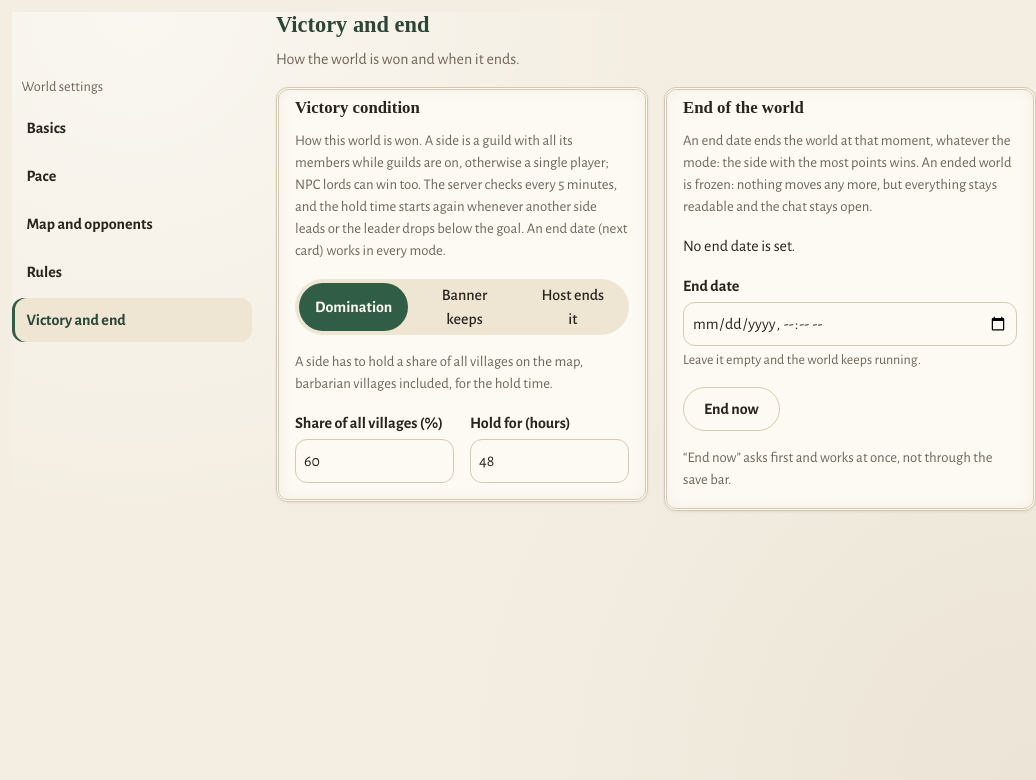
Scenario: WorldTab: one save bar for every section (1.6) › keeps what failed in the bar and says the rest is saved
Type "2026-11-07T18:00" into the field labelled "End date" at (850, 324), box [683, 302, 1017, 346]
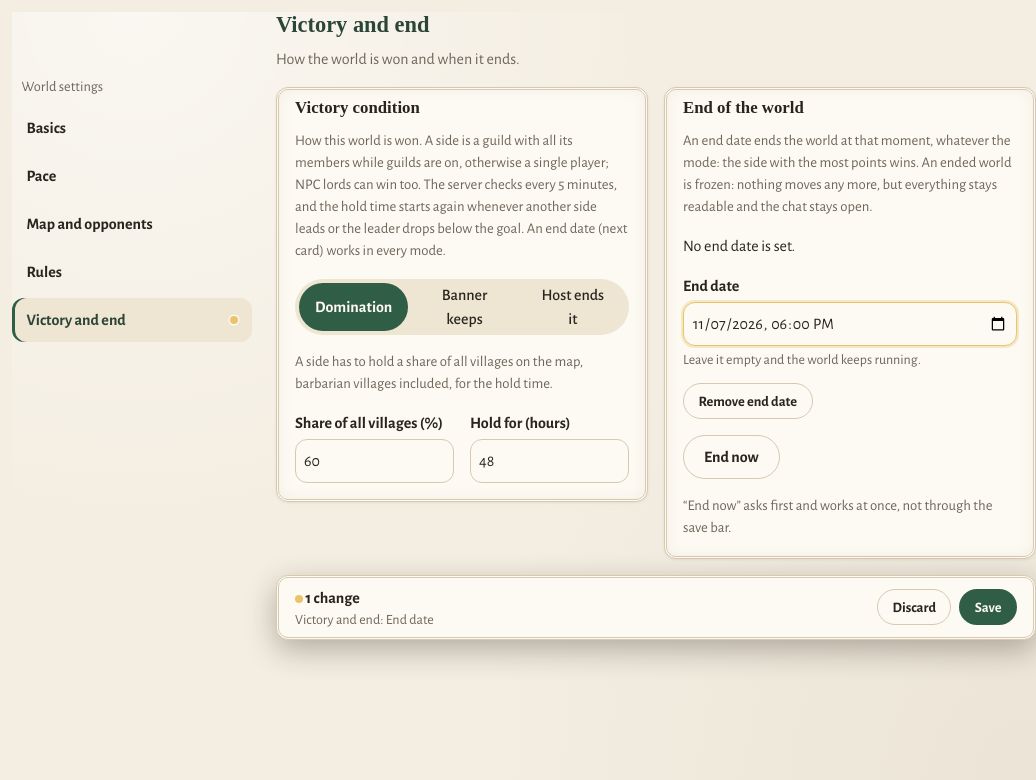
Click the button "Host ends it" at (573, 306), box [521, 282, 625, 330]
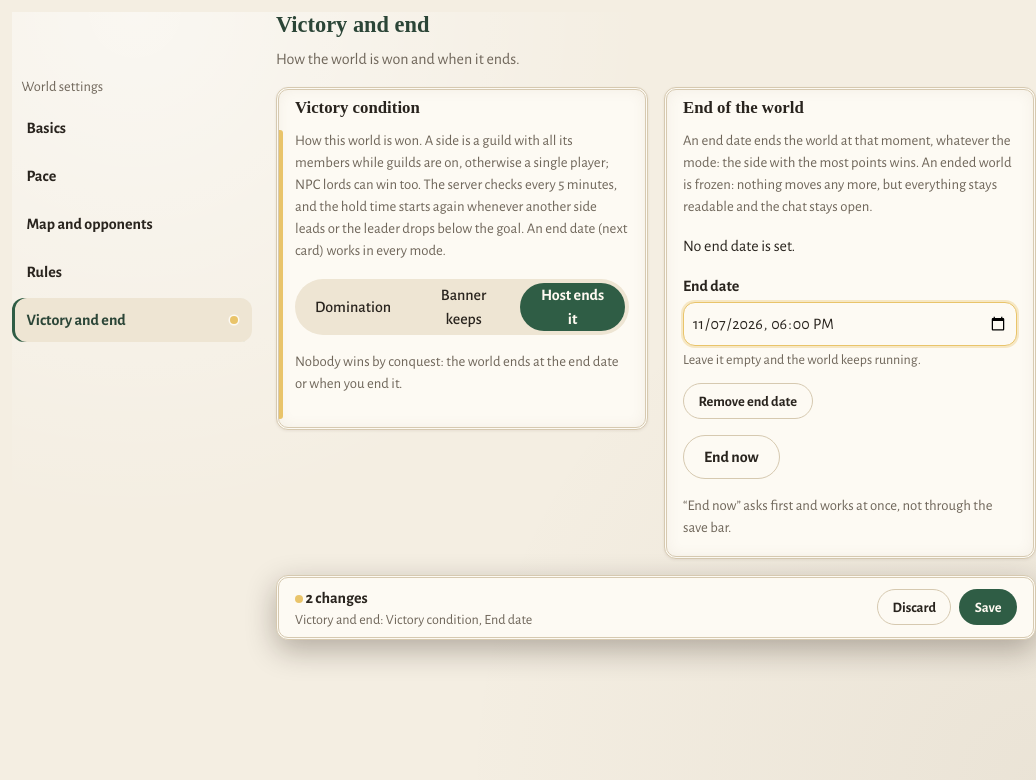
Click the button "Save" at (988, 607), box [959, 589, 1017, 625]
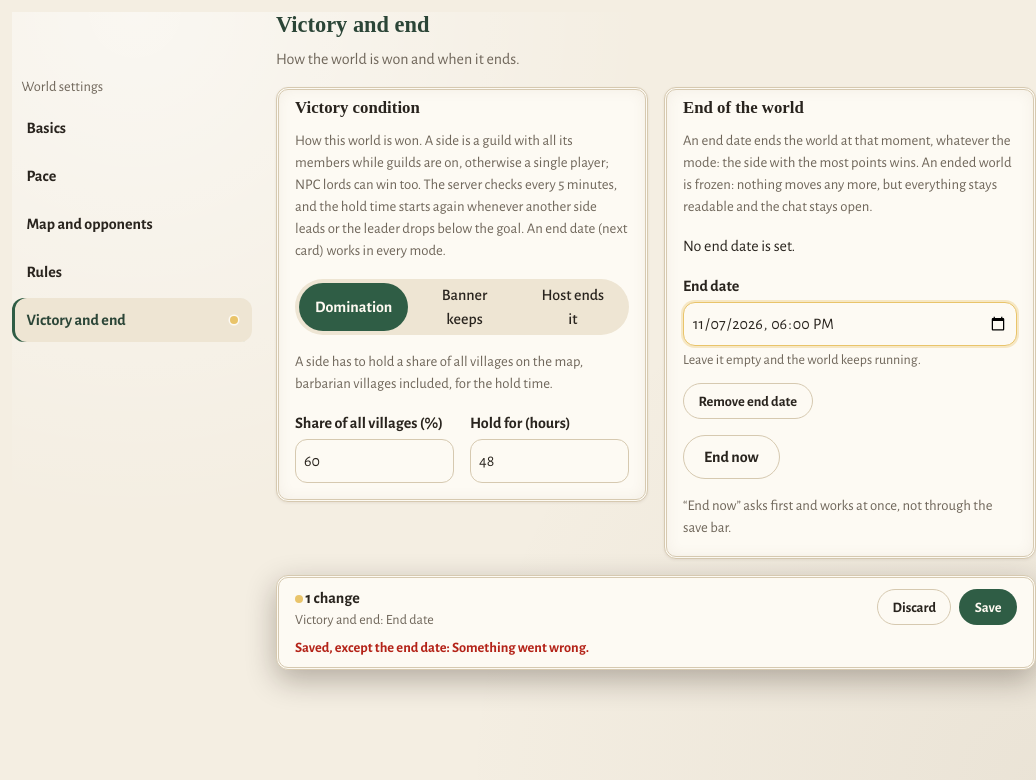
Expected: the element "change" does not show "Victory condition"
Expected: the element "change" shows "Saved, except the end date", [295, 640, 589, 655]
Expected: the element "change" shows "Victory and end: End date", [295, 613, 434, 627]
